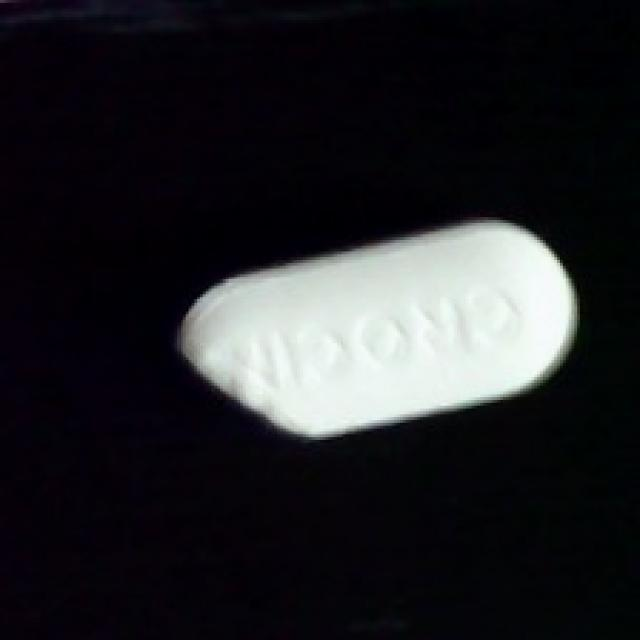defected: (166, 217, 580, 452)
